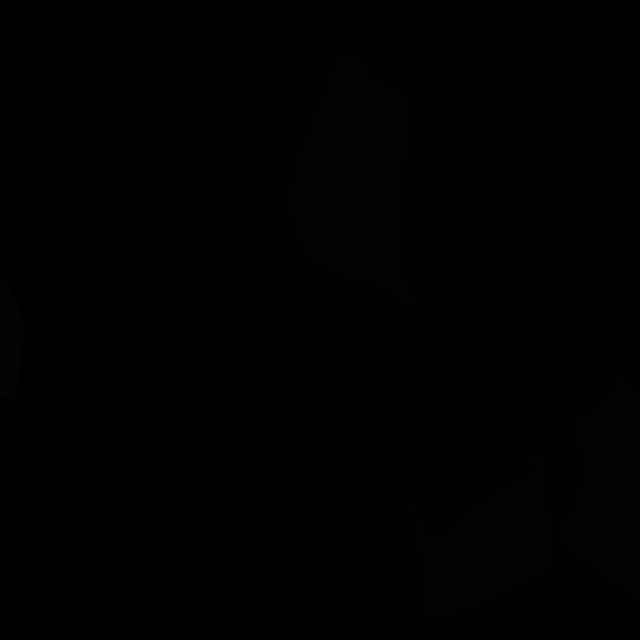cardboard: (283, 51, 420, 316), (408, 450, 554, 620), (558, 370, 640, 605)
soft_plastic: (0, 278, 26, 400)
